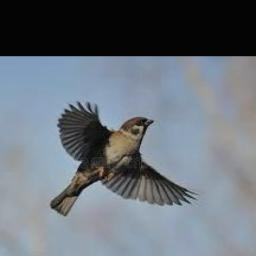Sparrow: (51, 100, 199, 216)
